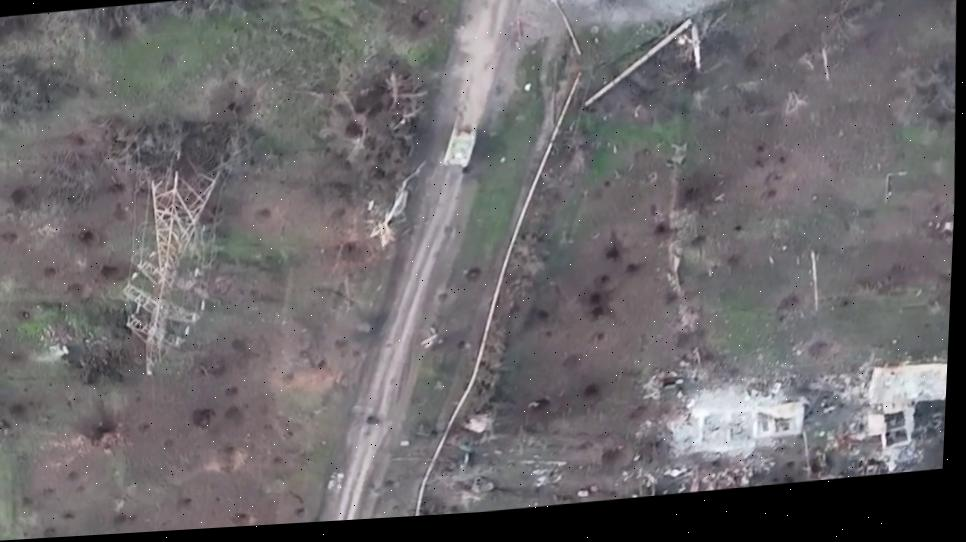vehicle: (441, 124, 478, 171)
